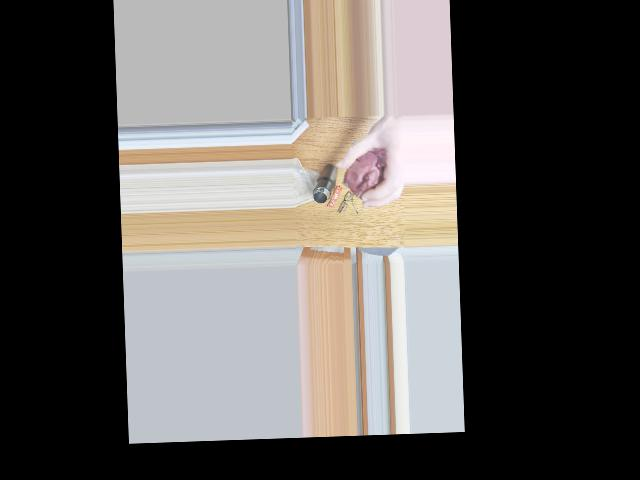onion: (353, 147, 386, 193)
